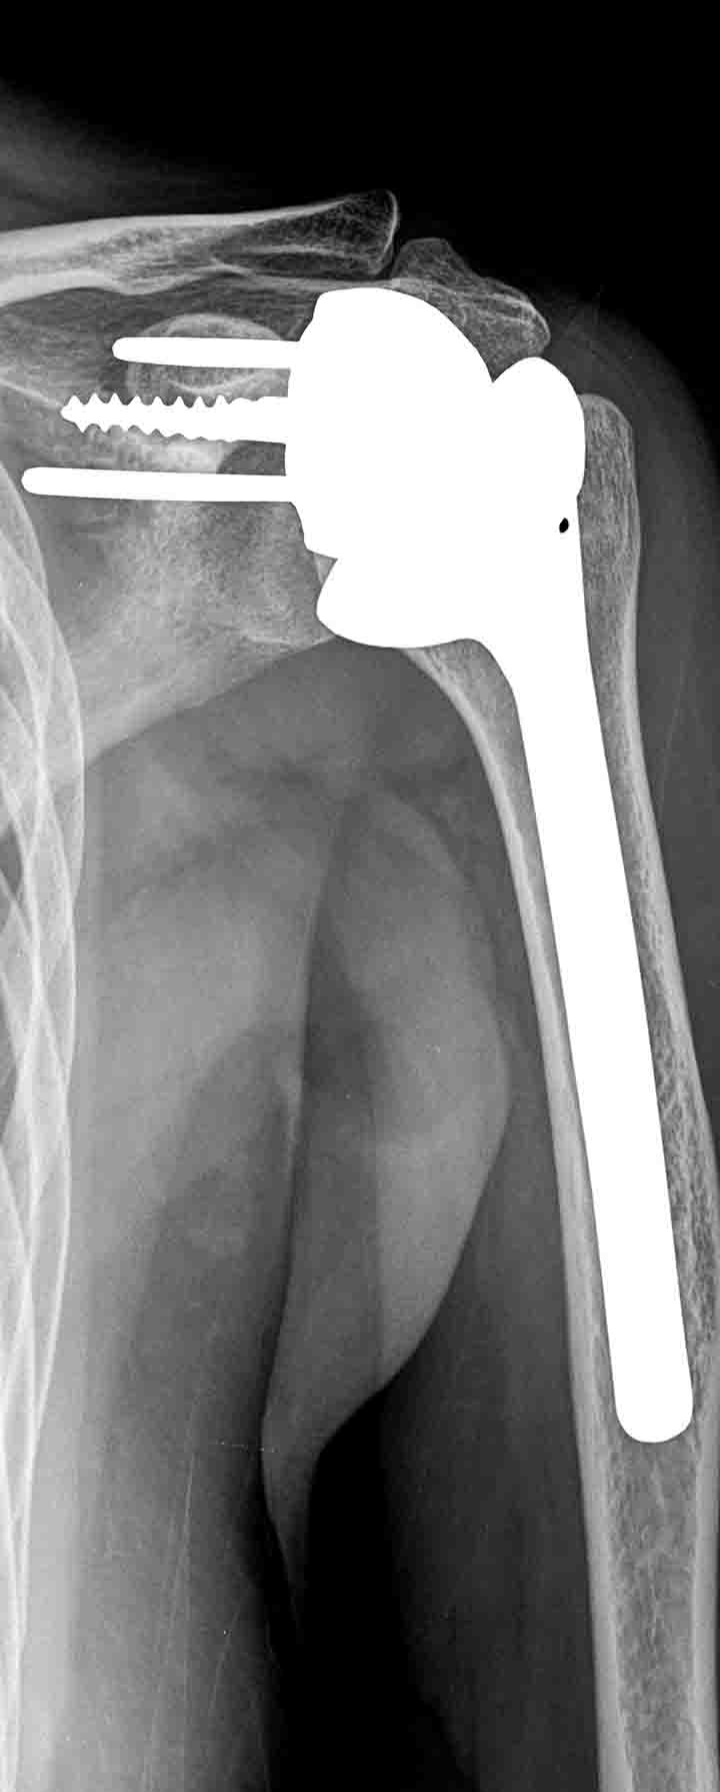Shoulder-Reverse-DJO: (14, 240, 707, 1450)
